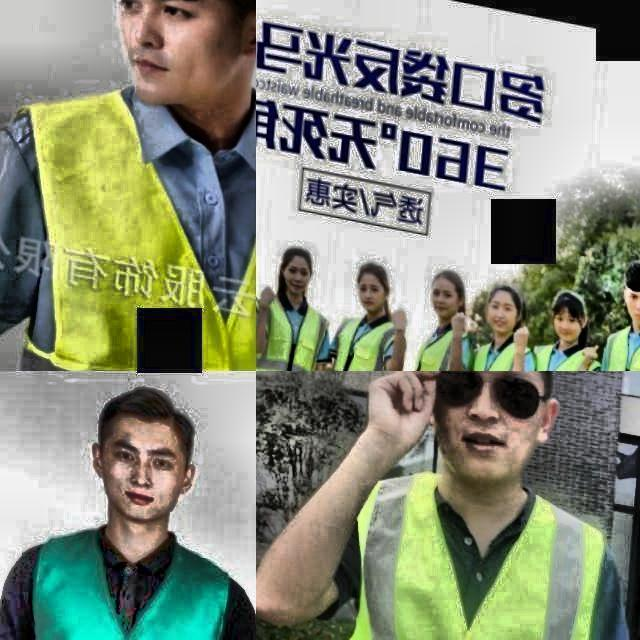safety_jacket: (0, 68, 256, 371), (303, 474, 617, 640), (0, 521, 245, 640), (256, 293, 321, 371), (328, 317, 404, 371), (403, 321, 465, 371), (461, 335, 531, 371), (528, 340, 601, 371), (600, 325, 640, 371)
